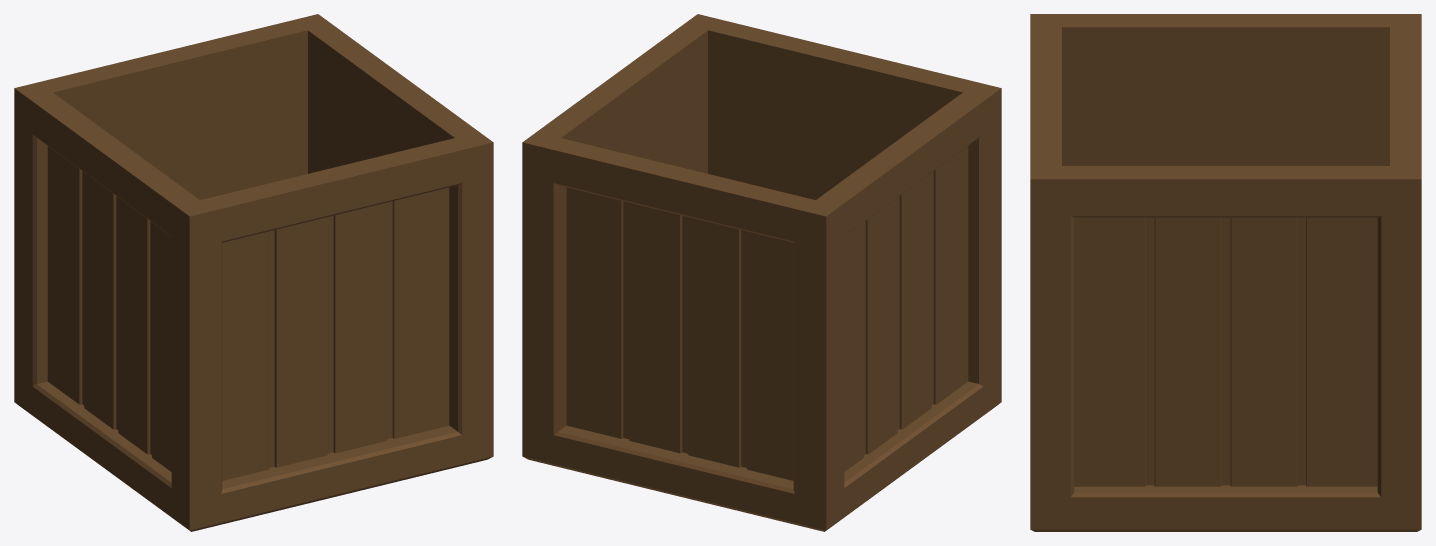
The model's file is Crate (open).fbx.
3 renders of one model, left to right at view 1: azimuth 30°, elevation 25°; view 2: azimuth 150°, elevation 25°; view 3: azimuth 270°, elevation 25°, orthographic. The views are drawn at different scales.
Parts seen in each view (by area): view 1: Crate.001; view 2: Crate.001; view 3: Crate.001.
Boxes of the visible parts, x1,y1,x2,y2 form: Crate.001: (14,14,493,531); Crate.001: (522,14,1001,531); Crate.001: (1030,14,1421,531).
Size of the model in its own units: 196 by 196 by 196.
